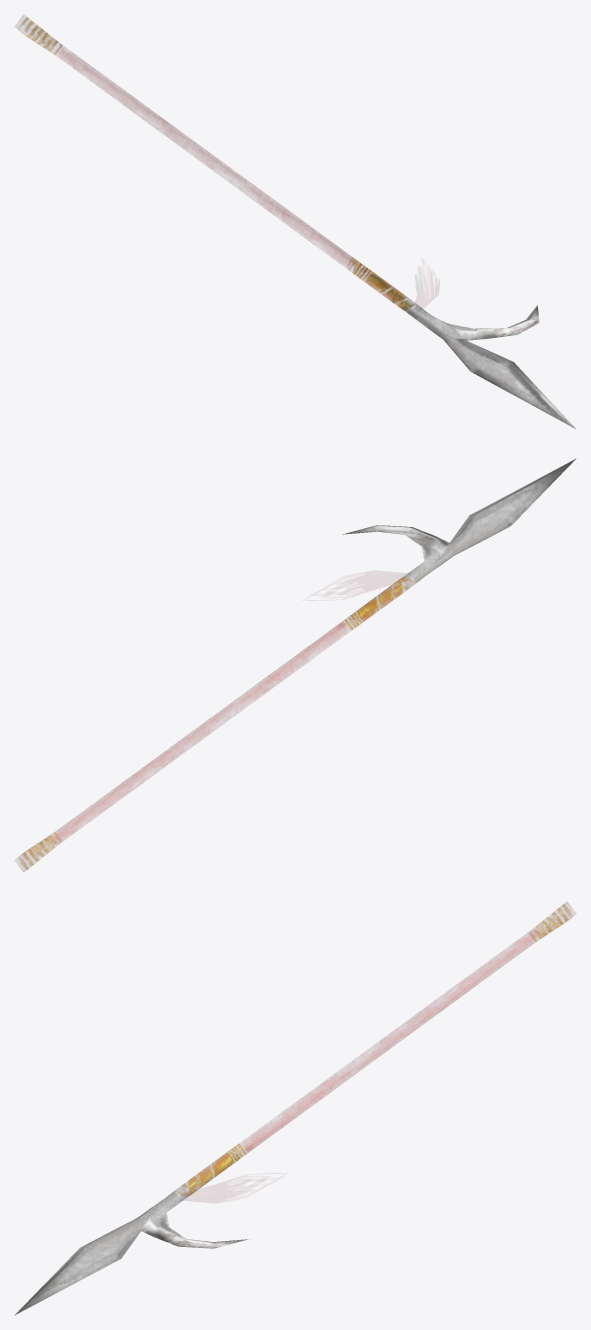
The model's file is spear_02.glb.
3 views of the same model, one above another, from view 1: azimuth 30°, elevation 25°; view 2: azimuth 150°, elevation 25°; view 3: azimuth 330°, elevation 25° (orthographic).
Visible parts, largest first — view 1: spear_02; view 2: spear_02; view 3: spear_02.
Boxes of the visible parts, x1,y1,x2,y2 form: spear_02: (16,15,576,429); spear_02: (17,458,576,871); spear_02: (14,902,573,1315).
Size of the model in its own units: 0.2709 by 0.0525 by 2.2.
1 material, 1 textured.
